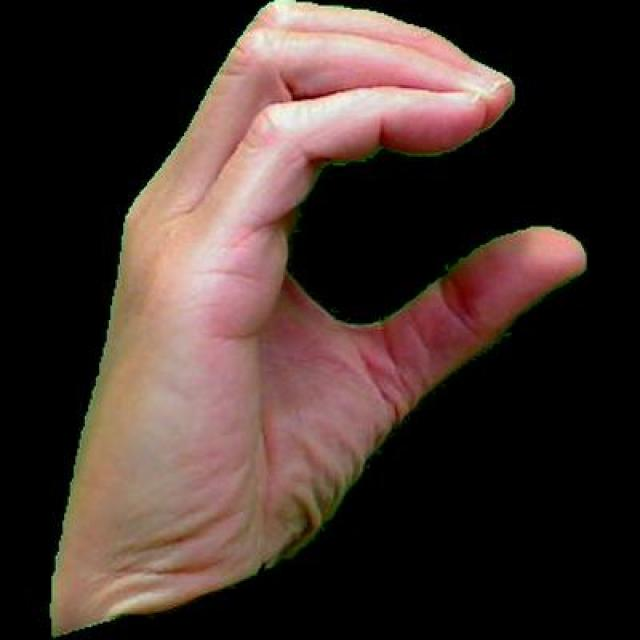c: (22, 0, 588, 637)
